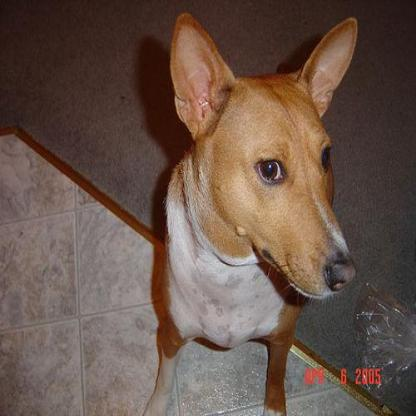basenji: (135, 6, 361, 414)
